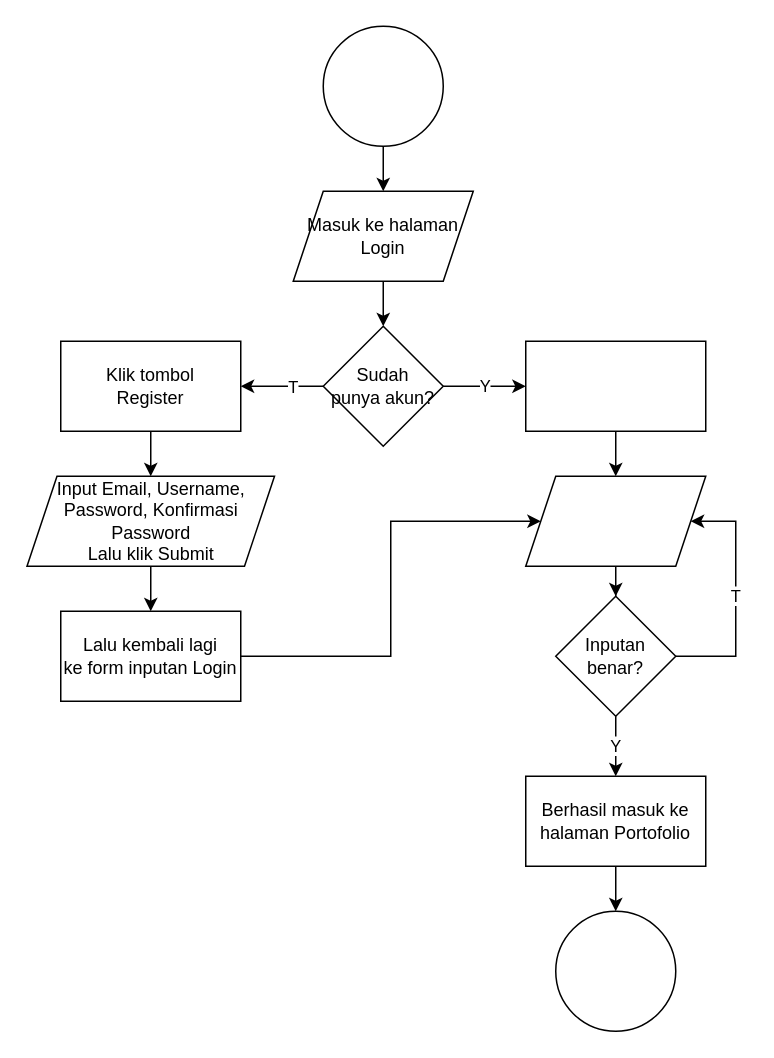
This 774x1058 diagram has some shape labels left out. The shapes that lost their labels are listed below. From the top down, each one's centre as x and y in pixels, then its label:
At pixel 382 85: "Mulai".
At pixel 615 385: "Lanjut ke halaman Login".
At pixel 615 520: "Input Email, Password".
At pixel 615 970: "Selesai".
